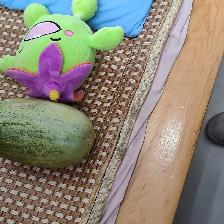gua: (2, 104, 88, 166)
